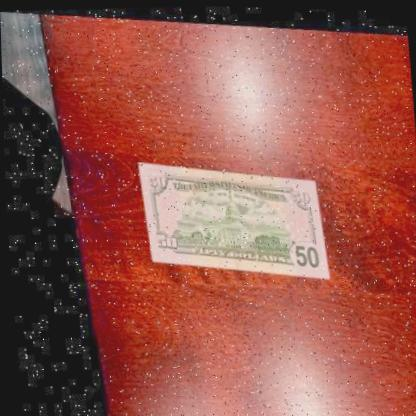fifty-back: (129, 149, 324, 282)
